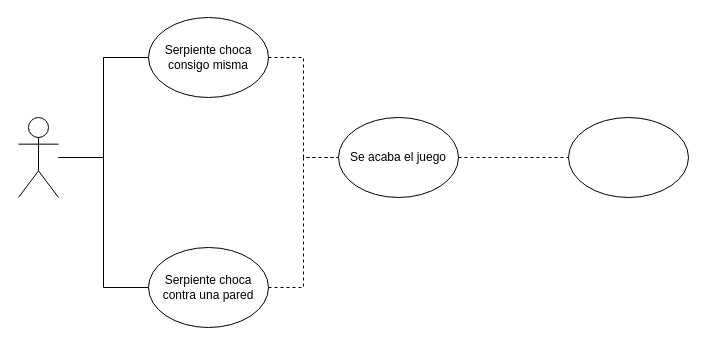
This 706x345 diagram has some shape labels left out. The shapes that lost their labels are listed below. From the top down, each one's centre as x and y in pixels, then its label:
the point at 38,157: Jugador
the point at 628,157: Se muestra el mensaje: "Game Over"
